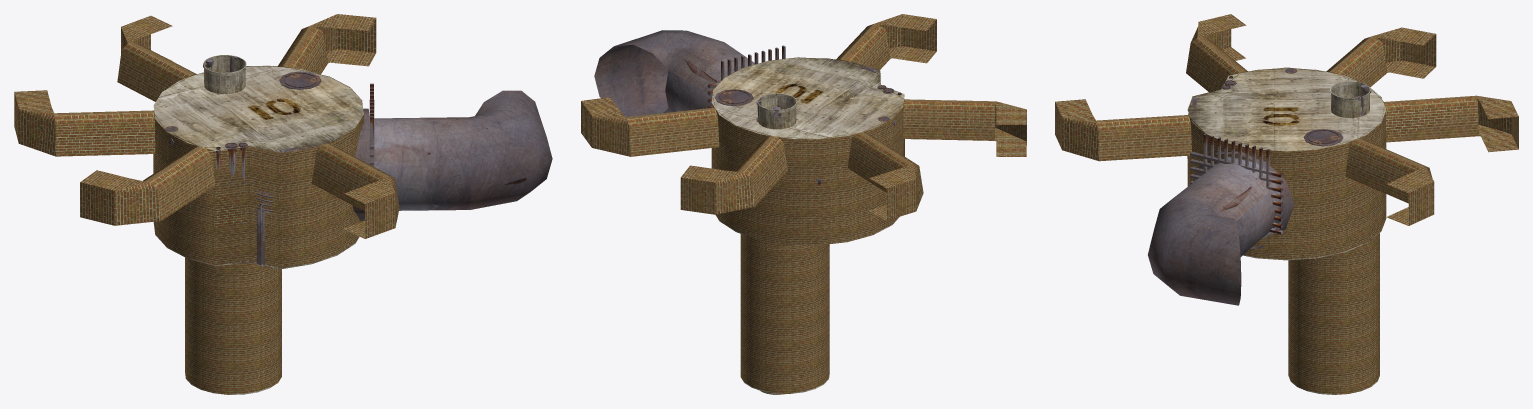
Rendered from transition1.fbx.
3 renders of one model, left to right at view 1: azimuth 30°, elevation 25°; view 2: azimuth 150°, elevation 25°; view 3: azimuth 270°, elevation 25°, orthographic. The views are drawn at different scales.
Visible parts, largest first — view 1: polySurface91, group45_pasted__pasted__pCube33, polySurface81; view 2: polySurface91, polySurface81, group45_pasted__pasted__pCube33; view 3: polySurface91, group45_pasted__pasted__pCube33, polySurface81.
Boxes of the visible parts, x1,y1,x2,y2 form: polySurface91: [14, 14, 399, 394]; group45_pasted__pasted__pCube33: [165, 56, 552, 266]; polySurface81: [153, 55, 363, 394]; polySurface91: [581, 14, 1026, 393]; polySurface81: [711, 57, 904, 394]; group45_pasted__pasted__pCube33: [594, 30, 901, 184]; polySurface91: [1055, 14, 1518, 394]; group45_pasted__pasted__pCube33: [1148, 68, 1371, 305]; polySurface81: [1187, 68, 1386, 394].
Bounding box in the file's own units: 178 × 113 × 163.
